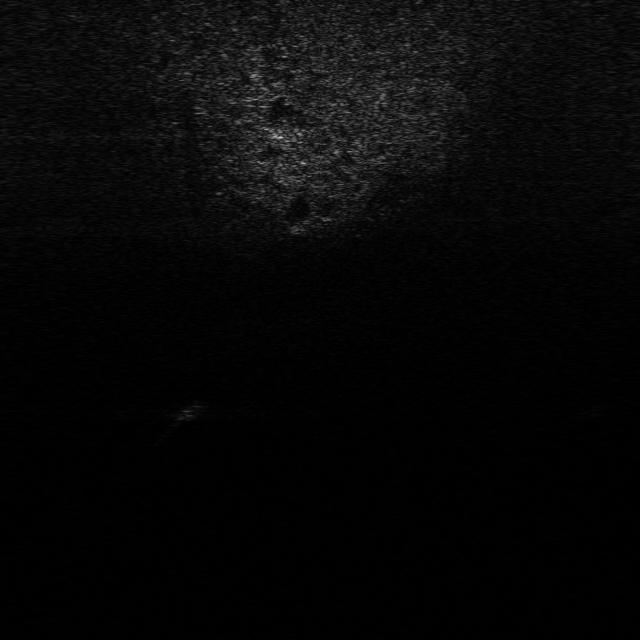cylinder: (156, 393, 200, 447)
